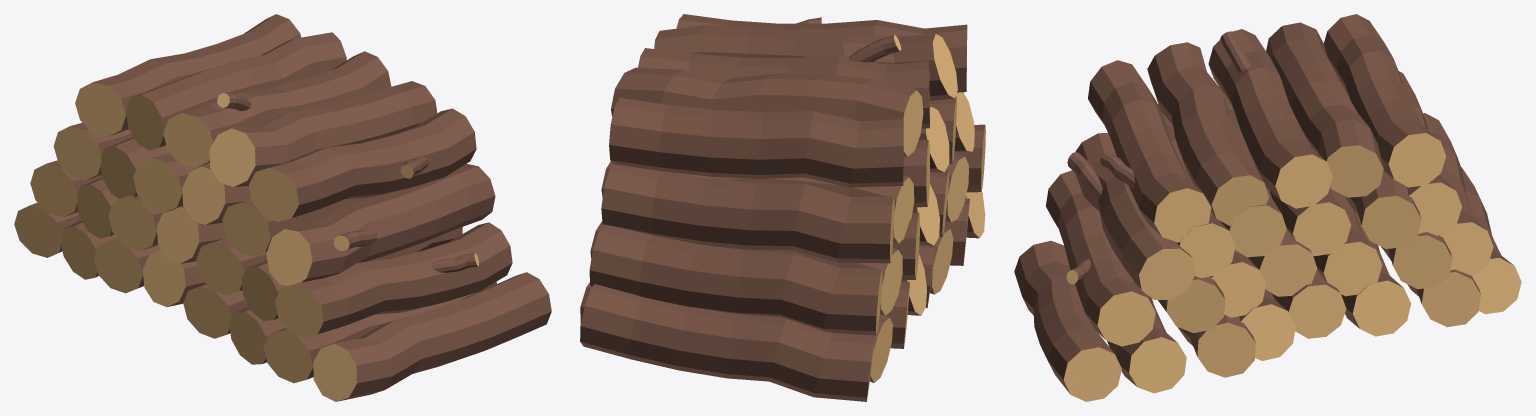
File: wood_pile.glb
The picture shows the model from 3 angles, left to right: view 1: azimuth 30°, elevation 25°; view 2: azimuth 150°, elevation 25°; view 3: azimuth 270°, elevation 25°; orthographic projection. The views are drawn at different scales.
Size of the model in its own units: 0.9357 by 0.6571 by 1.17.
